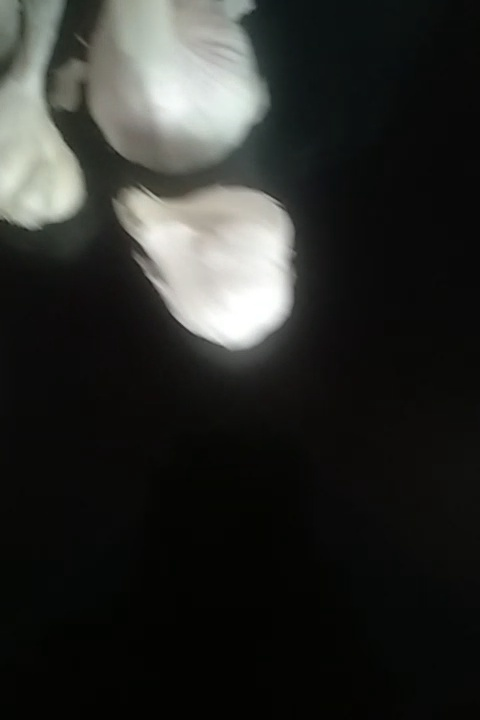garlic: (110, 155, 308, 370), (85, 1, 273, 171), (1, 1, 91, 237)
